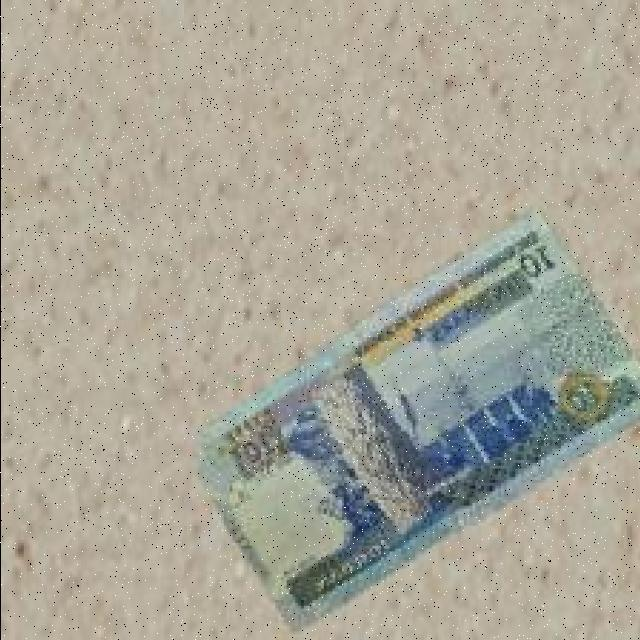10-dinar: (192, 203, 640, 631)
